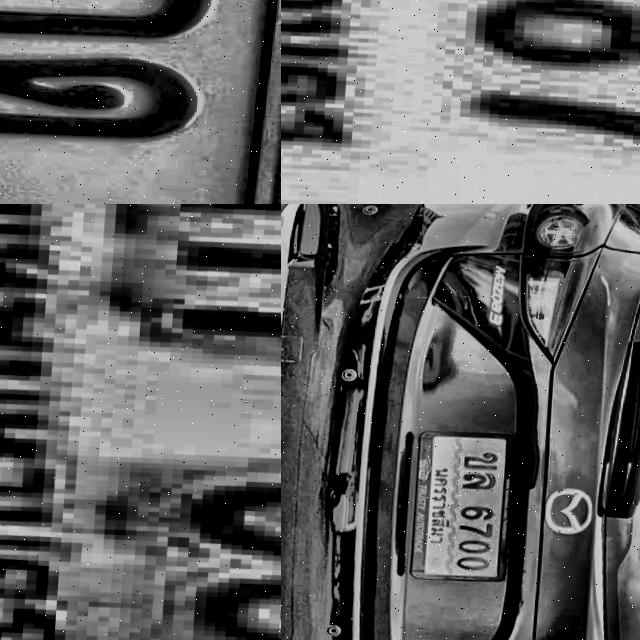license-plate: (0, 204, 281, 640), (281, 0, 640, 204), (0, 0, 281, 204), (404, 427, 516, 589)
